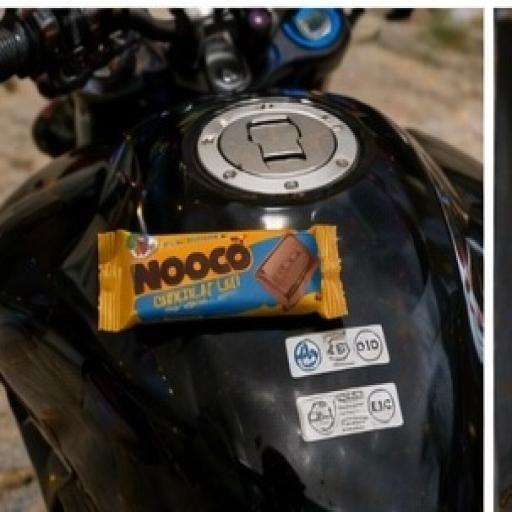biscuit-detection: (76, 181, 381, 375)
